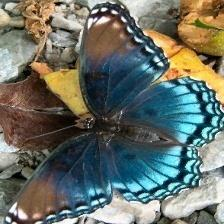butterfly: (6, 4, 224, 224)
